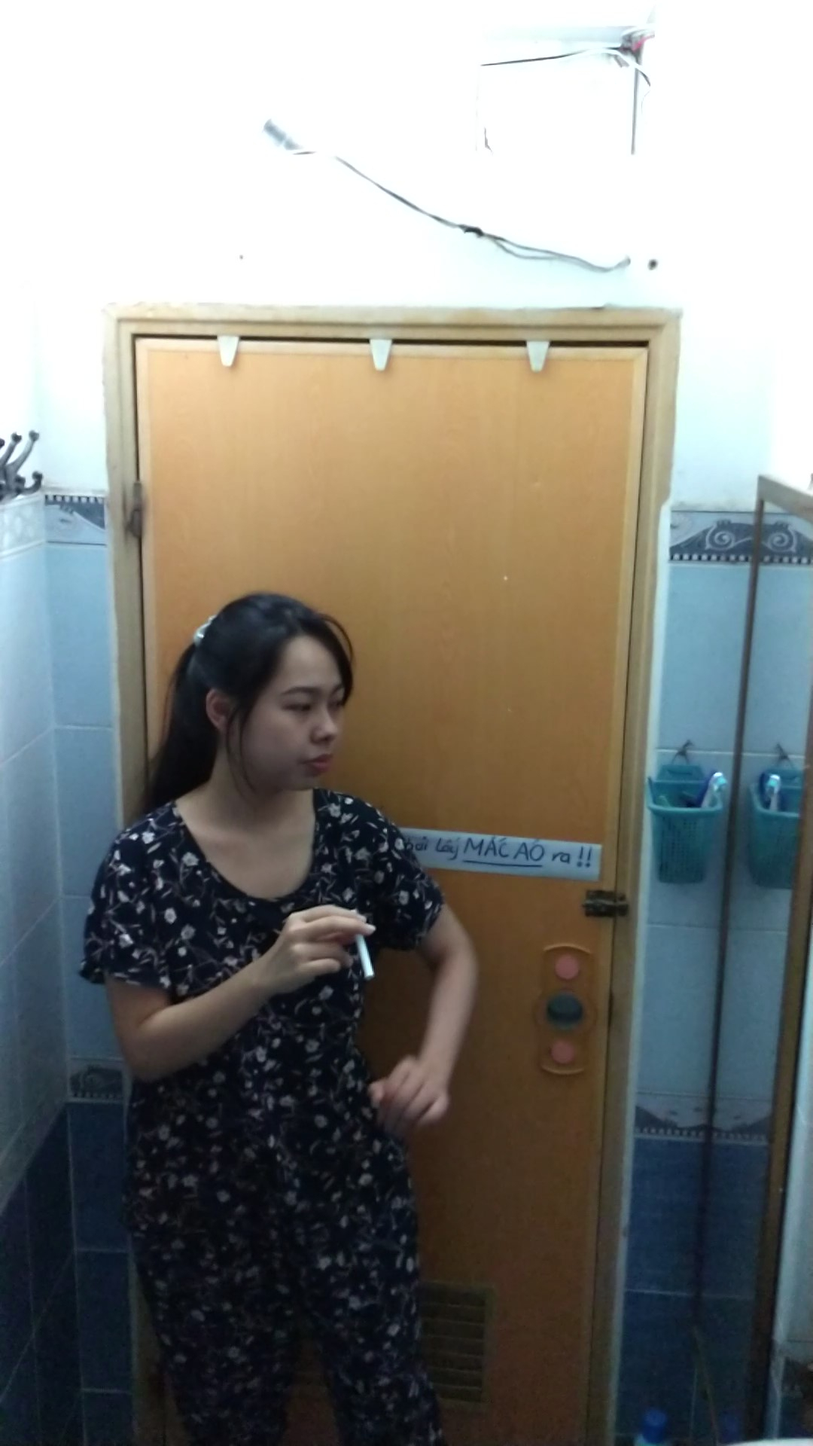cigarette: (352, 931, 378, 982)
person: (80, 587, 490, 1444)
